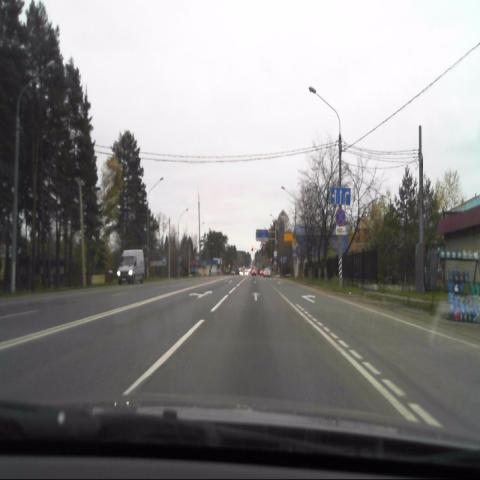3_27: (335, 209, 345, 225)
5_15_1: (330, 187, 351, 205)
